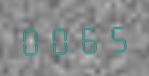five: (102, 19, 129, 54)
six: (74, 20, 101, 55)
zero: (46, 20, 73, 56), (18, 21, 45, 56)
